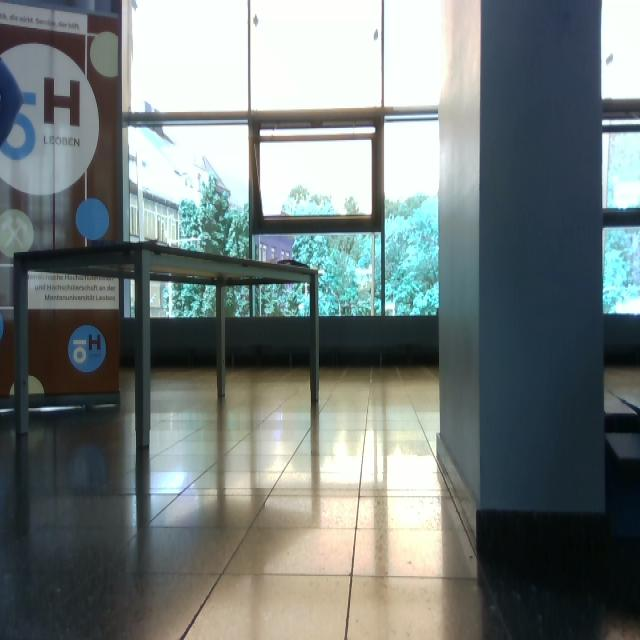door: (1, 1, 125, 429)
light bulb: (1, 57, 24, 148), (1, 209, 35, 258), (76, 197, 110, 241), (90, 30, 119, 80), (606, 53, 614, 65), (253, 15, 259, 27)
pillar: (437, 1, 607, 541)
table: (10, 240, 325, 452)
window: (122, 1, 443, 321)
